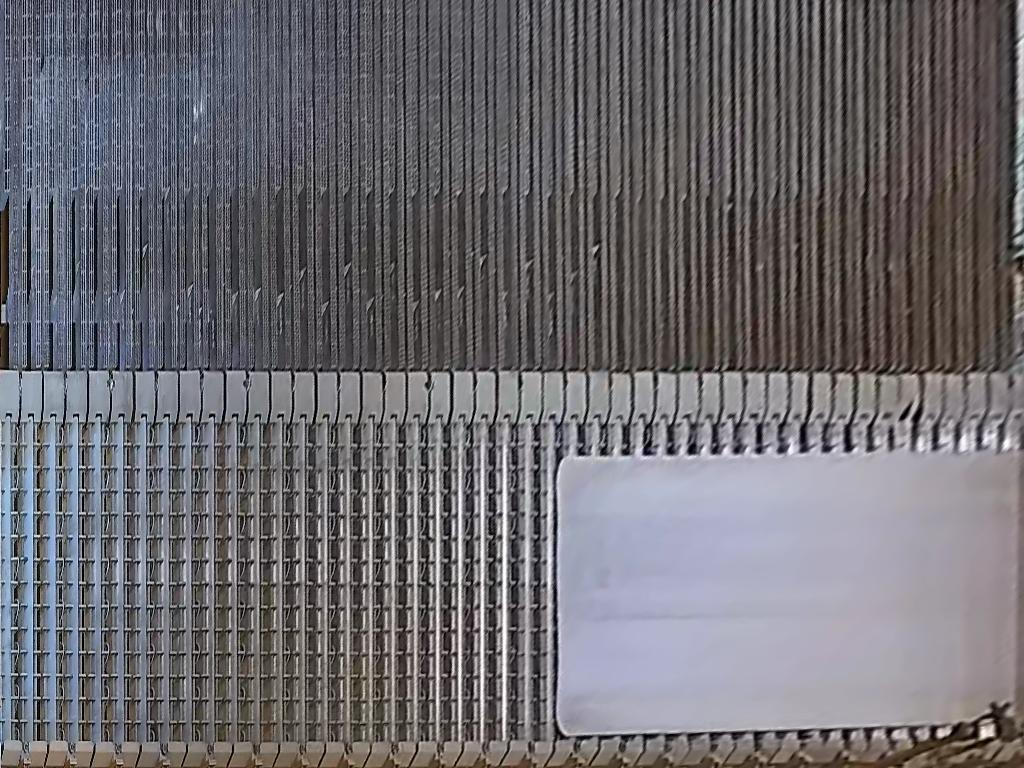steel: (558, 451, 1024, 739)
